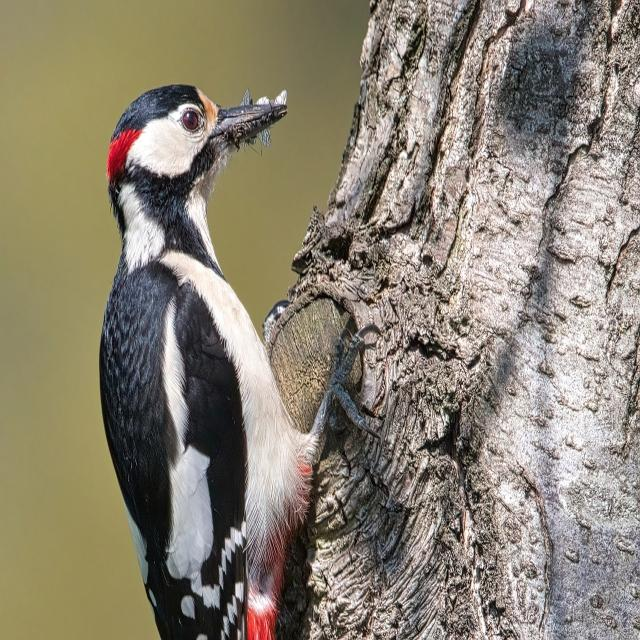Woodpecker: (101, 70, 299, 640)
